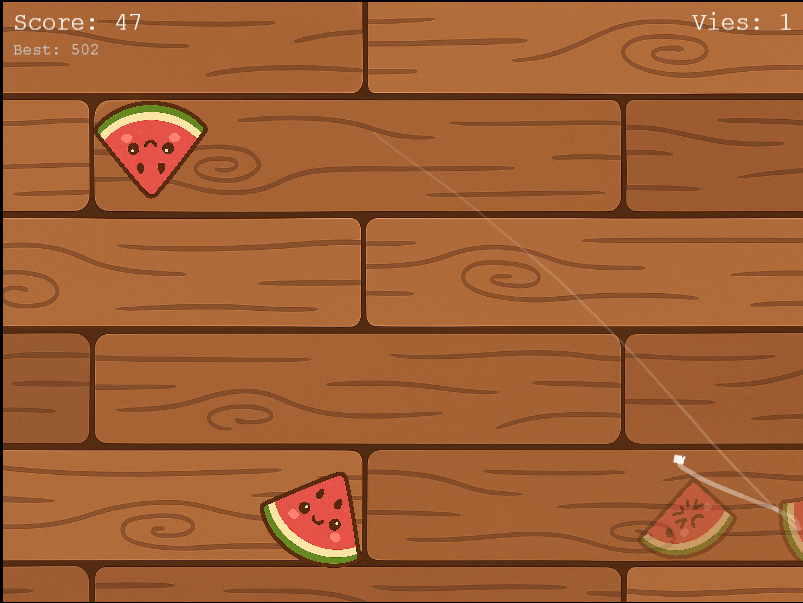fruit: (92, 96, 212, 202), (258, 467, 369, 573)
